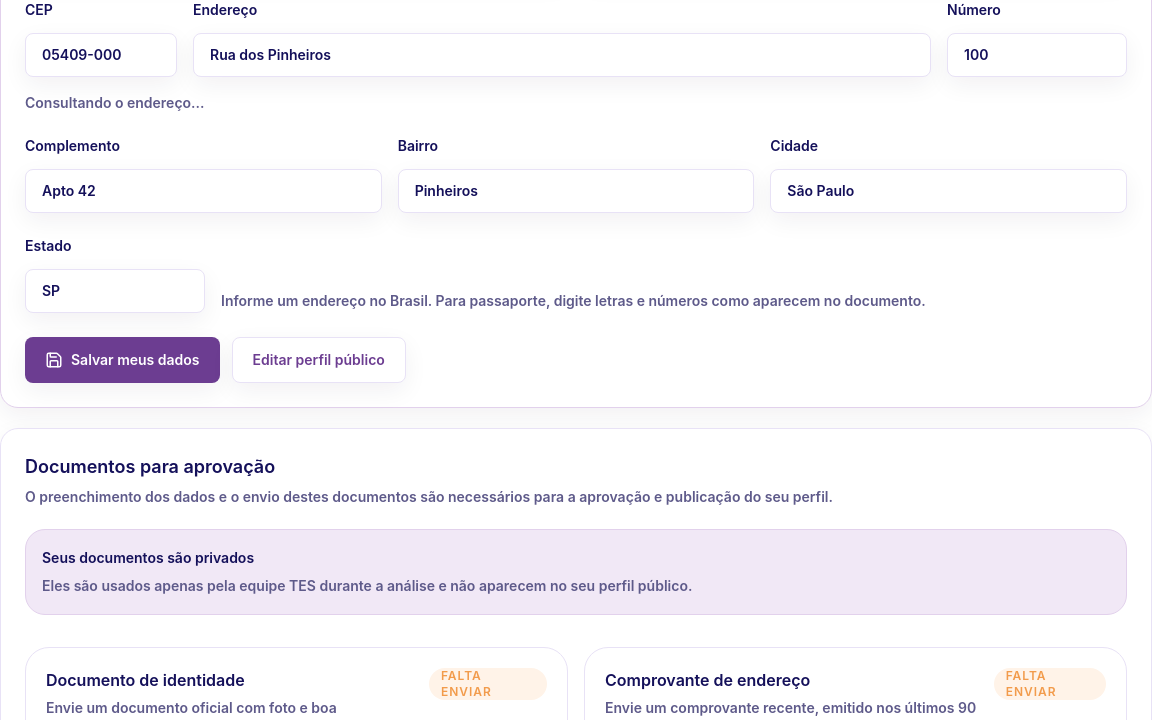
Test: TherapistSettingsPage › shows the safe settings error for VALIDATION_ERROR
This screenshot has width=1152, height=720.
(page scrolled)
Click the button "Salvar meus dados": (122, 360) 25,337 -> 220,383
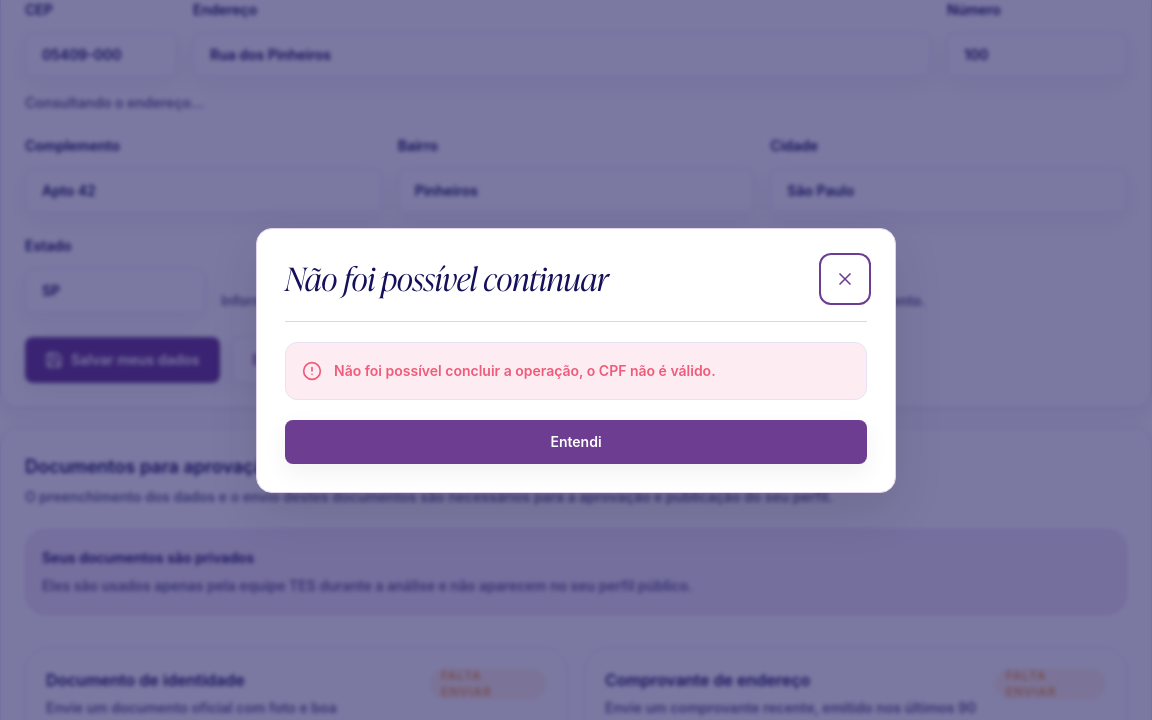
Check: the message reads "Não foi possível concluir a operação, o CPF não é válido.", box 334,362 -> 716,378
